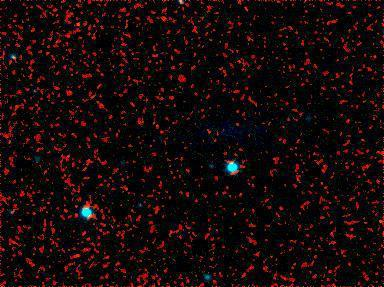star: (62, 8, 92, 38)
